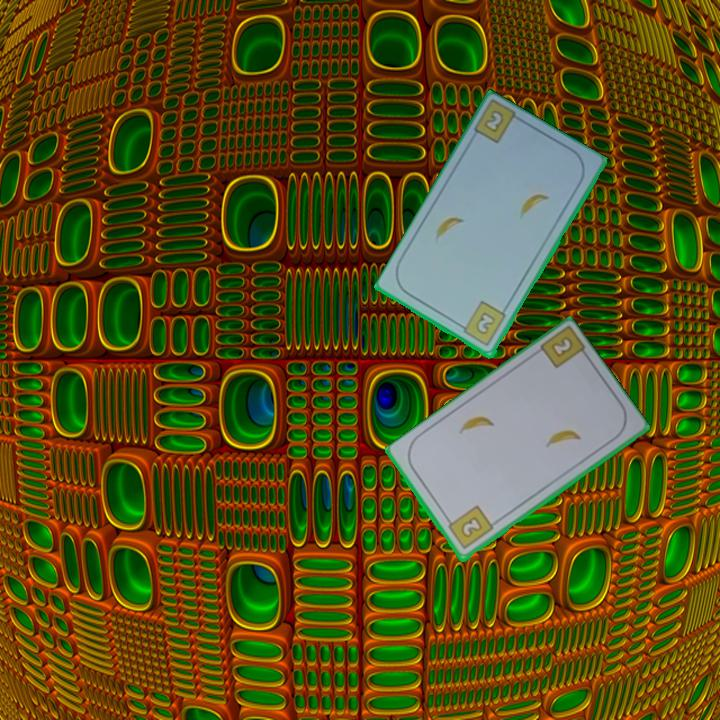2b: (456, 298, 509, 349), (443, 502, 496, 552), (550, 335, 574, 358), (483, 109, 505, 133)
